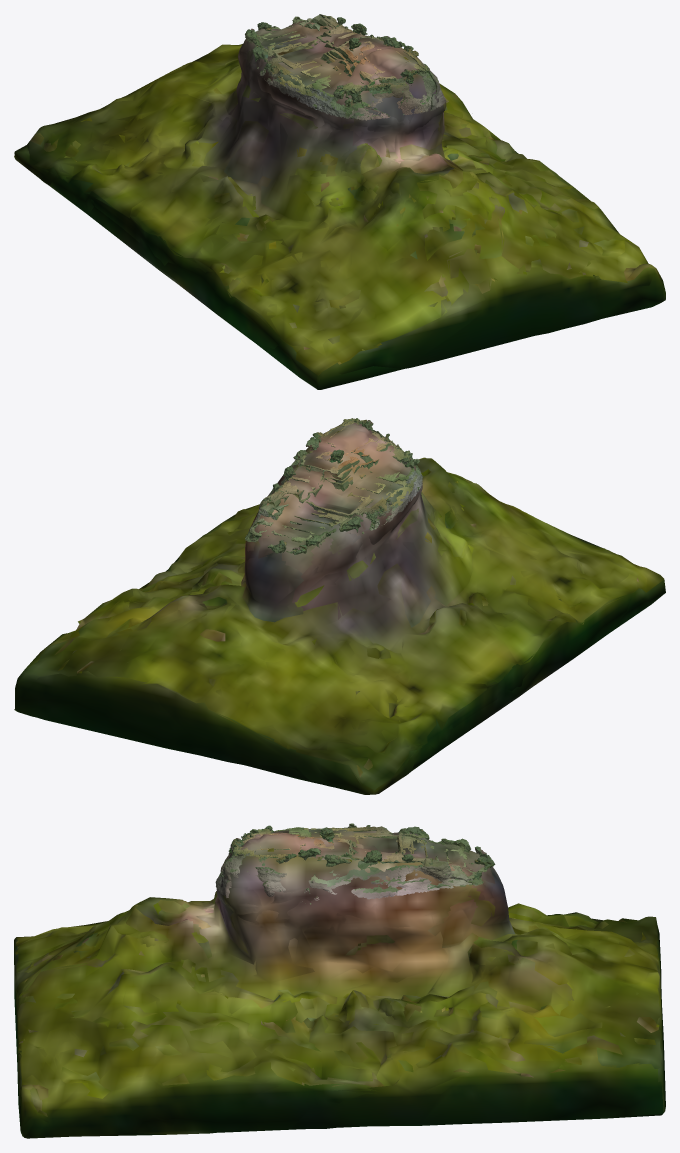
Rendered from Sigiriya.glb.
3 renders of one model, top to bottom at view 1: azimuth 30°, elevation 25°; view 2: azimuth 150°, elevation 25°; view 3: azimuth 270°, elevation 25°, orthographic. The views are drawn at different scales.
Visible parts, largest first — view 1: sigiriya, model_102, model_10; view 2: model_102, sigiriya, model_10; view 3: sigiriya, model_102, model_10.
Part boxes in pixels (x1,y1,x2,y2): sigiriya: [14, 18, 665, 389]; model_102: [14, 21, 665, 389]; model_10: [245, 14, 446, 120]; model_102: [14, 457, 665, 794]; sigiriya: [15, 423, 665, 794]; model_10: [245, 418, 422, 554]; sigiriya: [14, 827, 665, 1138]; model_102: [14, 837, 665, 1136]; model_10: [215, 823, 495, 904].
Size of the model in its own units: 0.839 by 0.4499 by 1.21.
4 materials, 4 textured.
